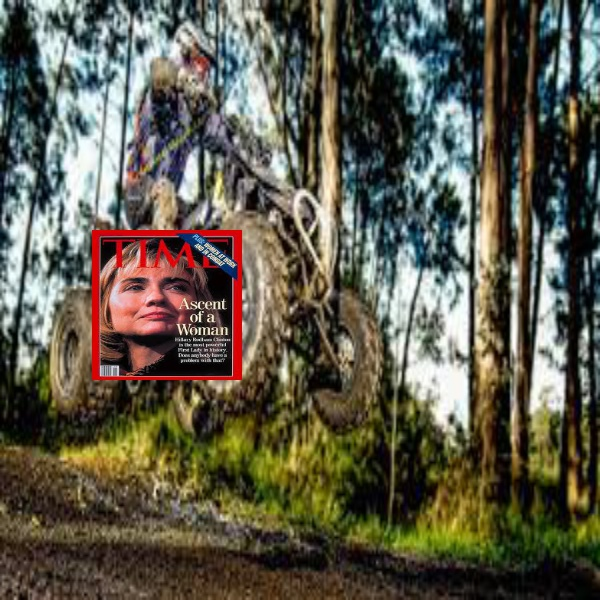time_cover: (84, 223, 243, 387)
